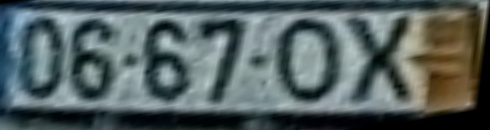0: (15, 14, 69, 103)
6: (140, 17, 196, 104), (66, 17, 118, 104)
7: (196, 17, 251, 108)
O: (274, 16, 345, 105)
X: (346, 14, 417, 107)
